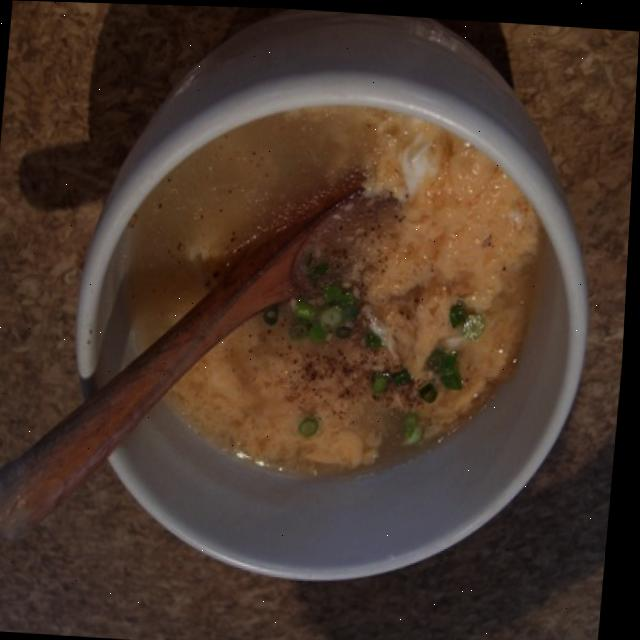汤锅炖物: (57, 2, 616, 598)
